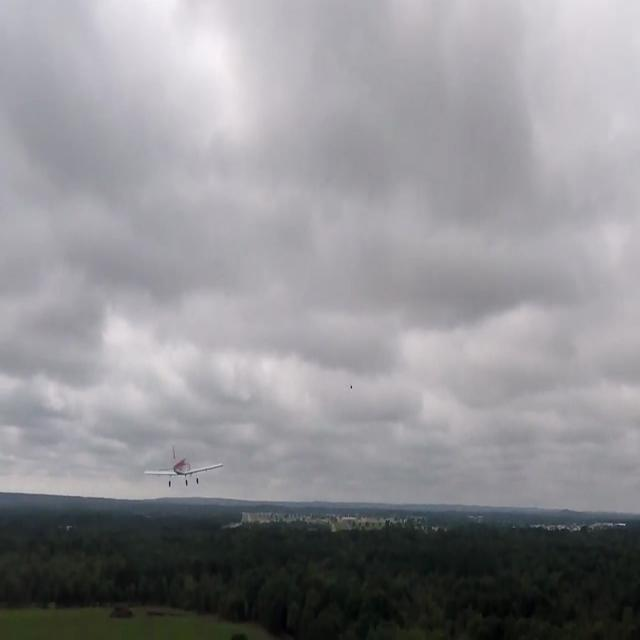iha: (187, 450, 192, 490)
